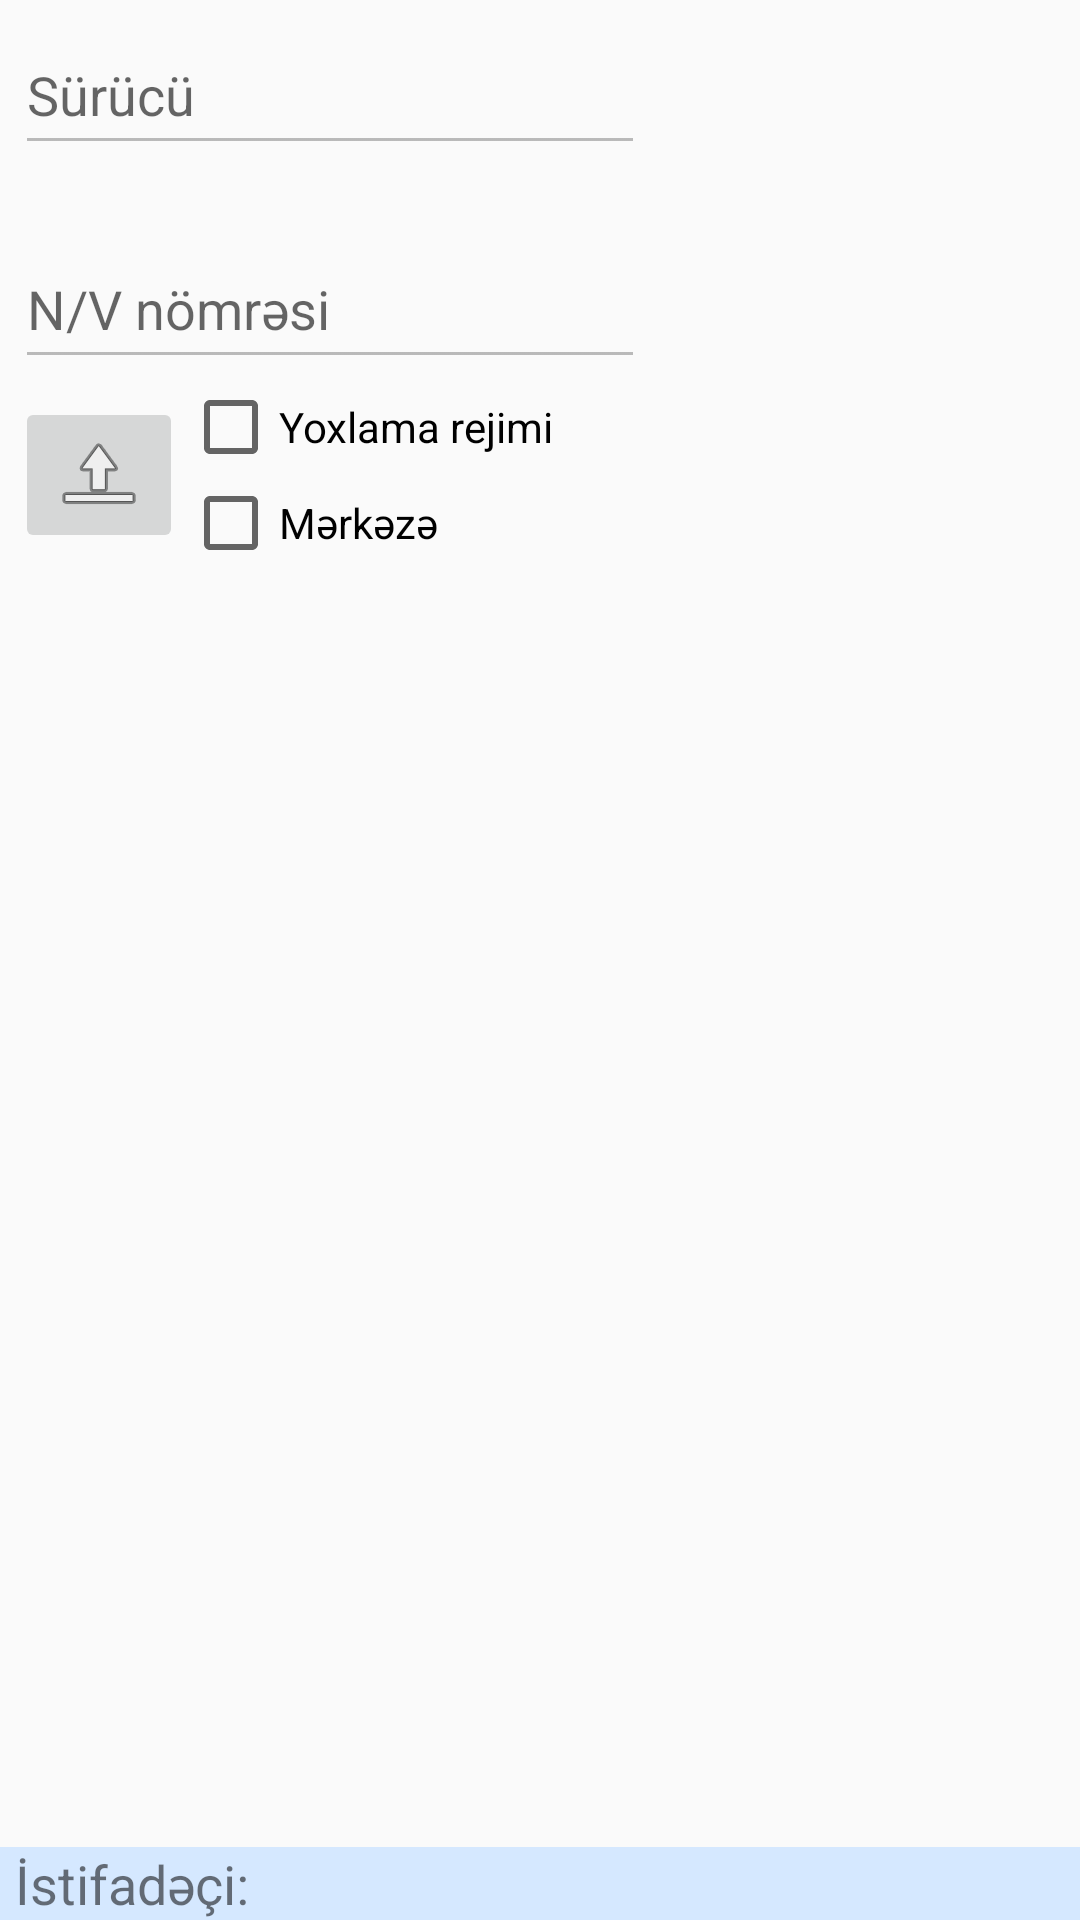

Icon bounding boxes for this 1080 x 1920 phone screenshot, format bbox=[x1, y1, x2, y2]:
Göndər: bbox=[27, 415, 171, 535]
